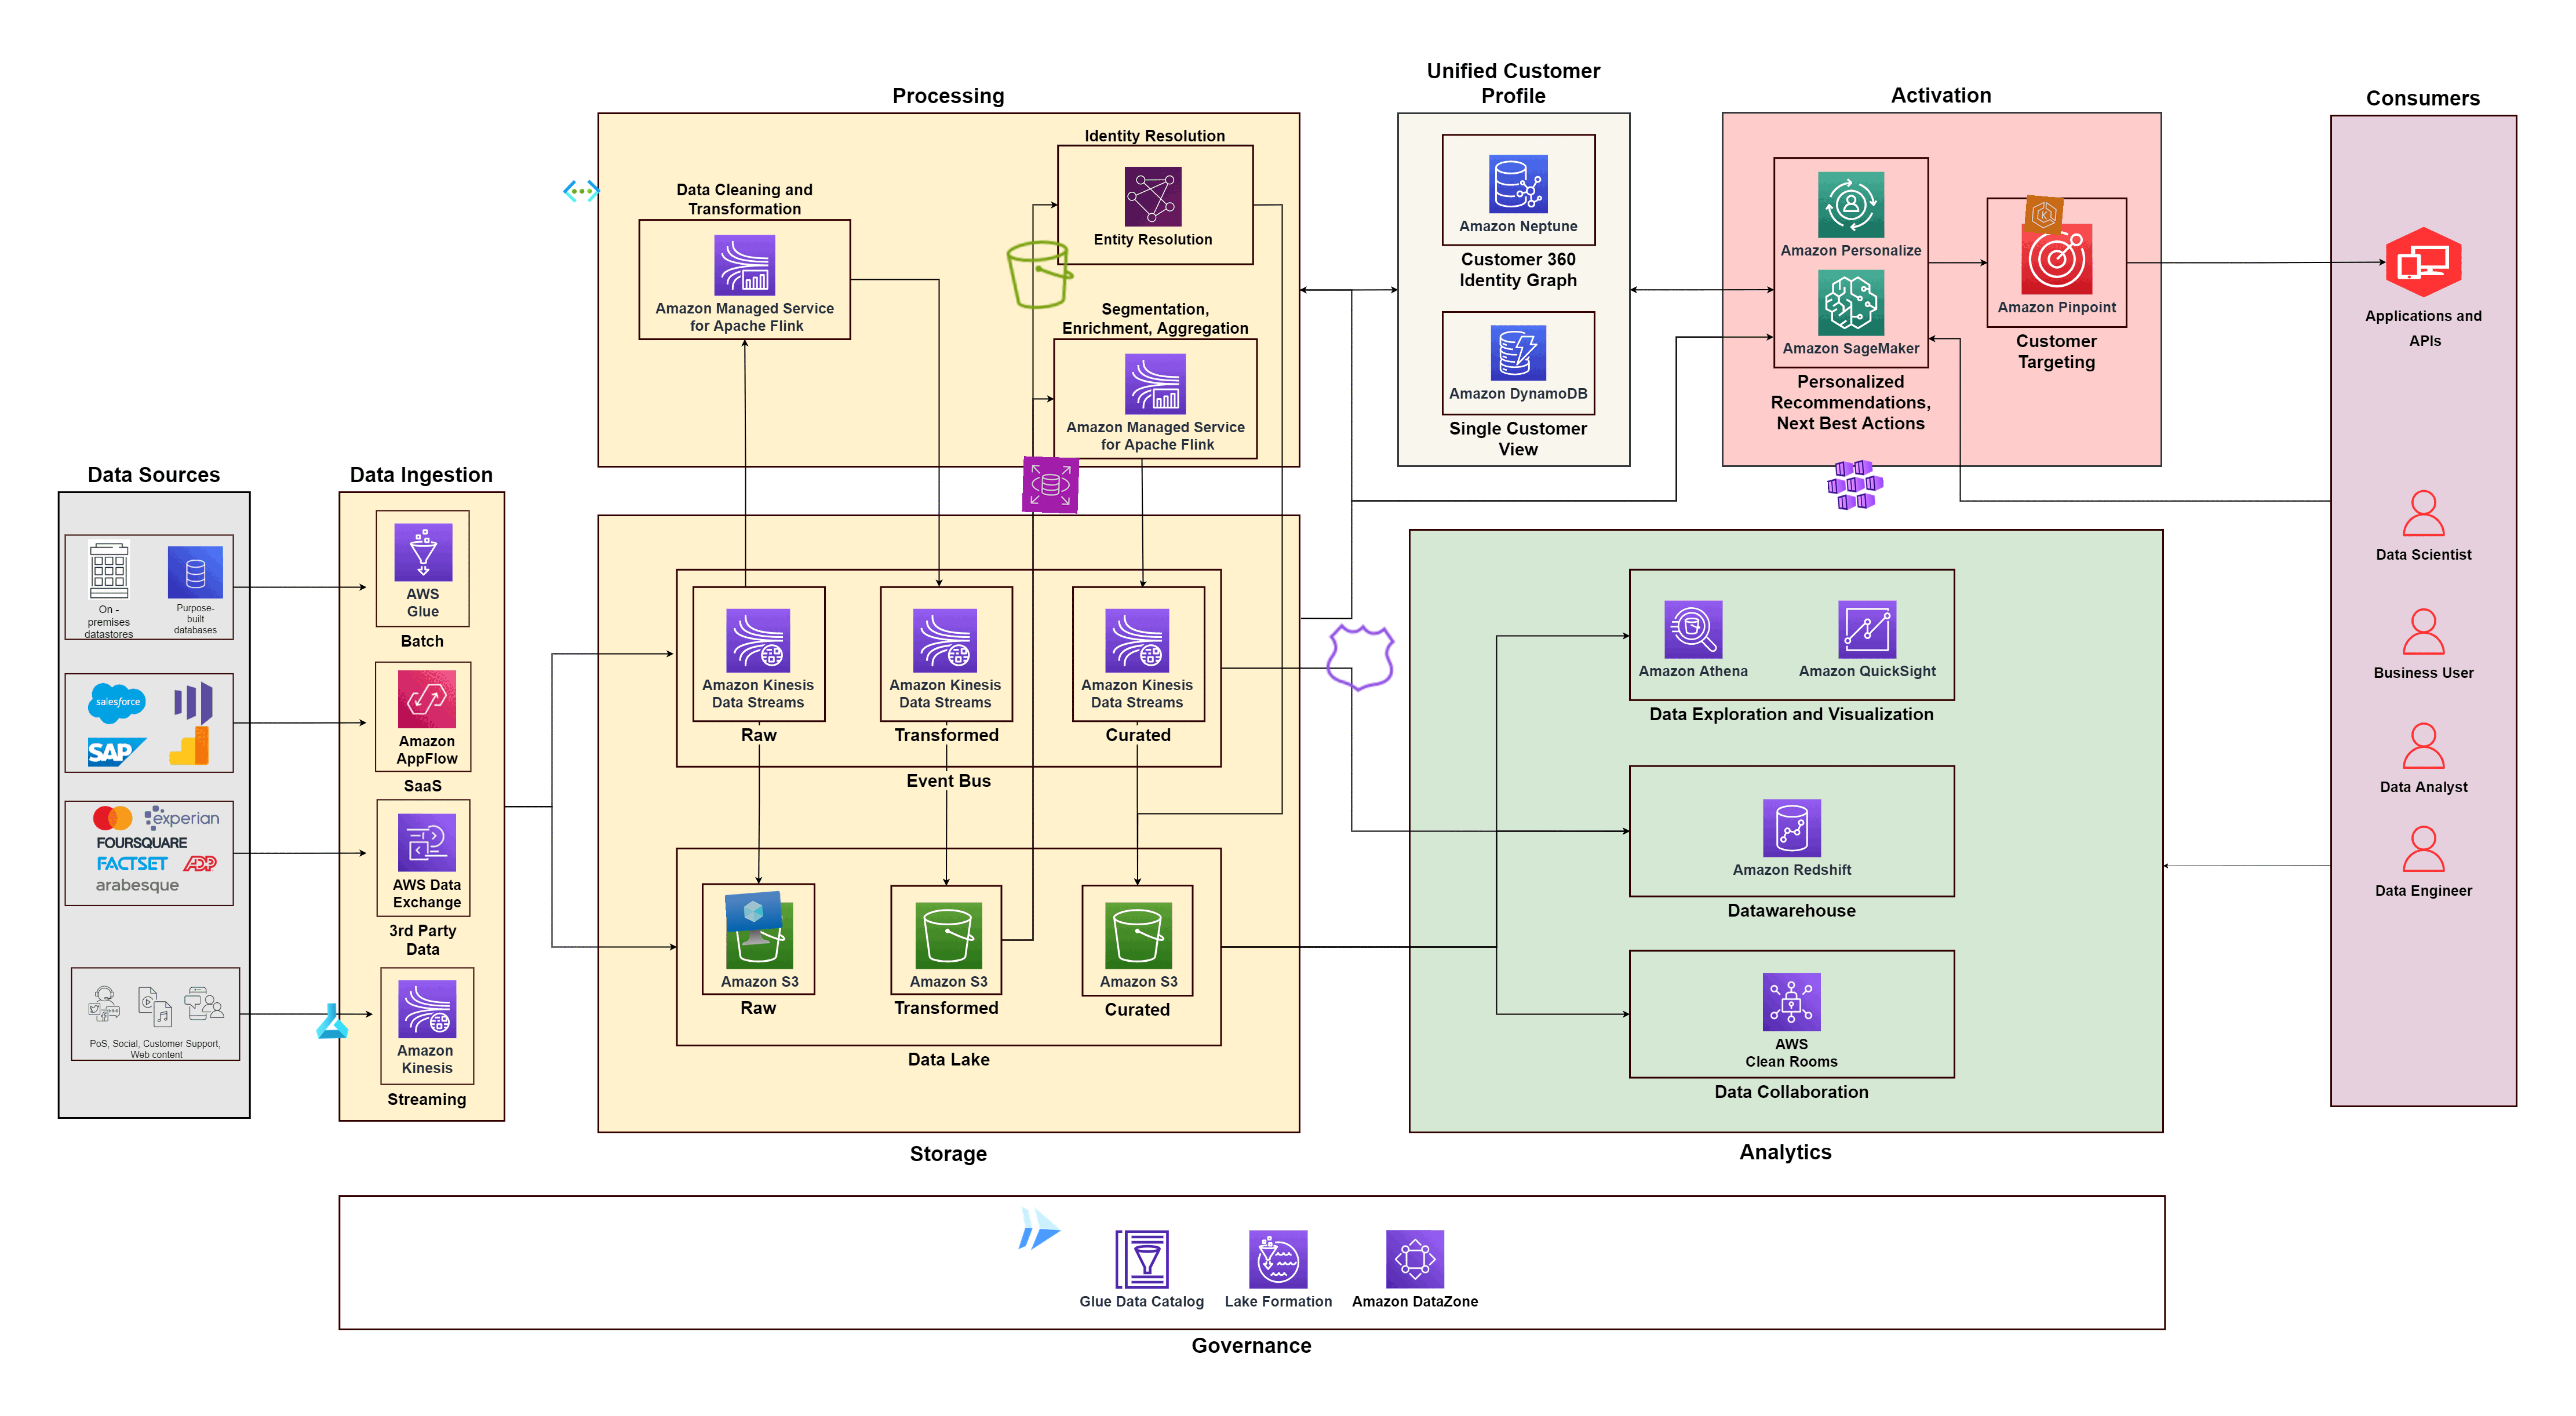aws_amazon_elastic_kubernetes_service: (2023, 195, 2065, 235)
aws_amazon_rds: (1022, 455, 1080, 514)
aws_route_53_hosted_zone: (1322, 619, 1400, 698)
aws_simple_storage_service_bucket: (1001, 235, 1081, 314)
azure_kubernetes_services: (1826, 453, 1885, 514)
azure_machine_learning: (312, 1001, 351, 1039)
azure_virtual_machine: (724, 889, 785, 950)
azure_virtual_networks: (563, 173, 602, 211)
gcp_cloud_run: (1010, 1198, 1069, 1259)
